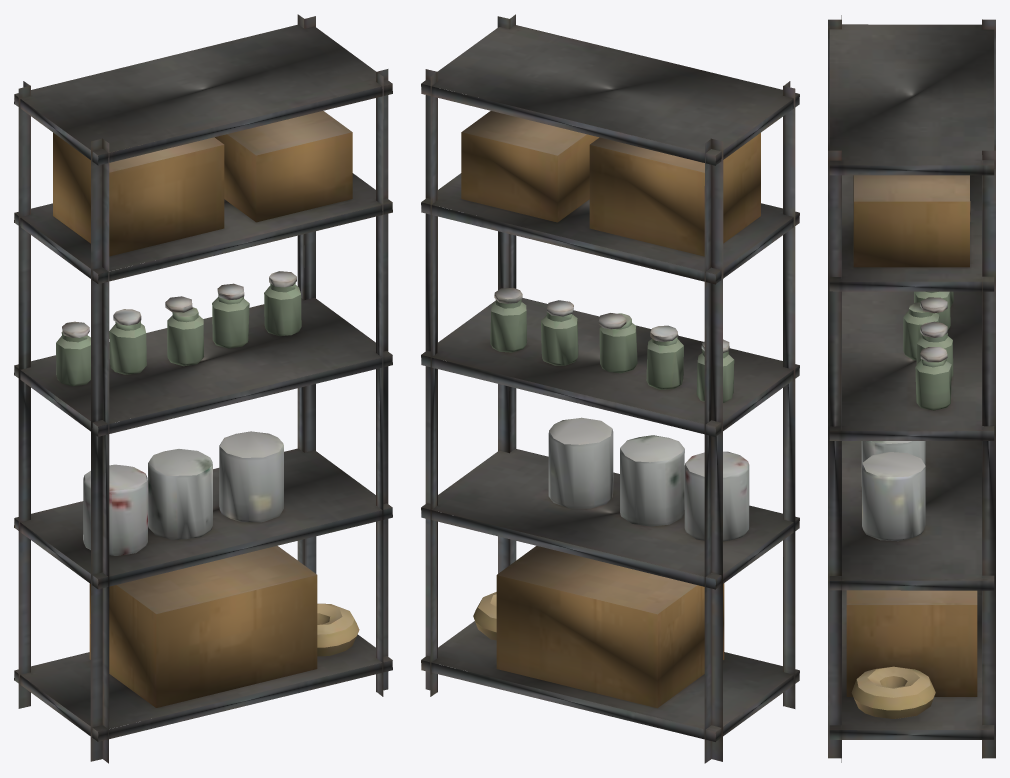
File: shelving-low.glb
3 renders of one model, left to right at view 1: azimuth 30°, elevation 25°; view 2: azimuth 150°, elevation 25°; view 3: azimuth 270°, elevation 25°, orthographic. The views are drawn at different scales.
Visible parts, largest first — view 1: shelving-low; view 2: shelving-low; view 3: shelving-low.
Boxes of the visible parts, bbox=[...] form: shelving-low: bbox=[14, 14, 392, 763]; shelving-low: bbox=[421, 14, 799, 763]; shelving-low: bbox=[828, 15, 995, 762].
Size of the model in its own units: 0.918 by 1.83 by 0.458.
1 material, 1 textured.
